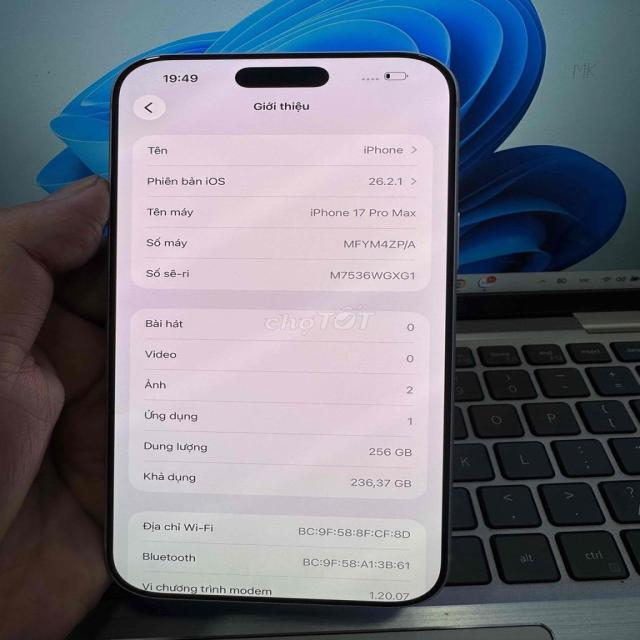gen_17: (108, 46, 460, 597)
